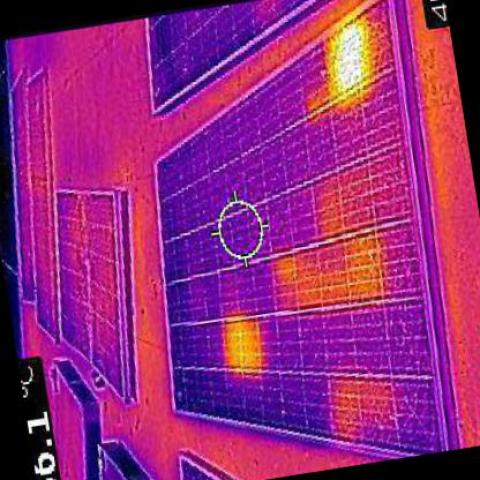fault: (327, 34, 376, 86)
